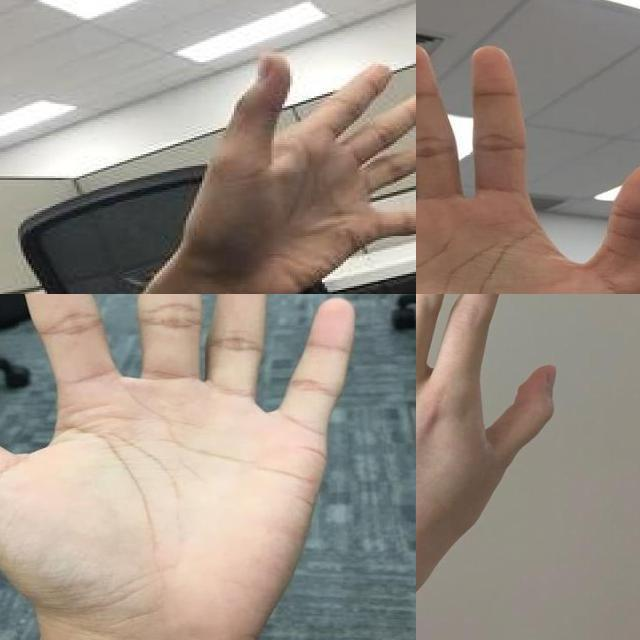no-gloves: (0, 294, 355, 640), (416, 39, 640, 294), (188, 50, 416, 294), (416, 294, 557, 582)
